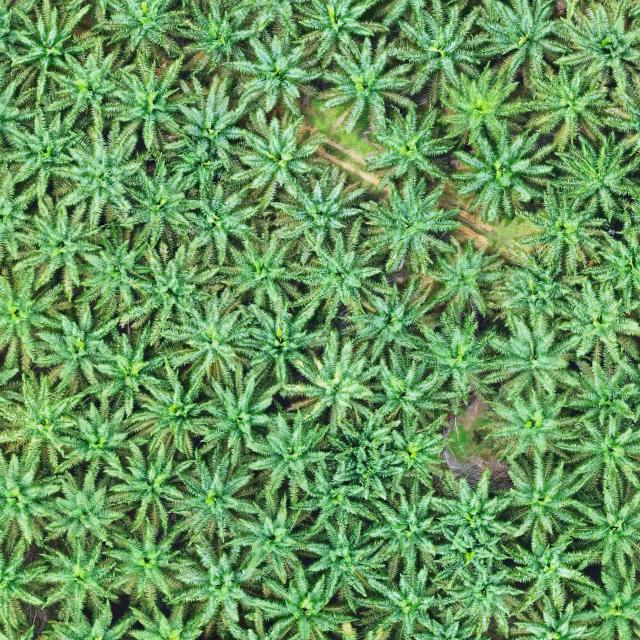Tree: (280, 209, 394, 332), (450, 118, 569, 227), (260, 162, 373, 268), (150, 288, 263, 392), (47, 116, 150, 230), (403, 299, 503, 416), (377, 0, 493, 100), (475, 301, 585, 404), (7, 191, 107, 303), (161, 530, 271, 631), (354, 480, 458, 586), (316, 29, 417, 137), (216, 484, 324, 584), (361, 175, 465, 278), (500, 518, 606, 619), (332, 268, 442, 365), (161, 447, 268, 545), (360, 339, 469, 435), (6, 0, 102, 109), (286, 336, 387, 439), (41, 32, 141, 130), (98, 513, 198, 610), (239, 563, 362, 640), (51, 393, 146, 492), (522, 60, 620, 155), (509, 185, 610, 277), (474, 383, 588, 464), (226, 105, 327, 196), (242, 405, 336, 502), (301, 515, 394, 613), (78, 326, 175, 418), (129, 235, 229, 324), (0, 101, 87, 203), (208, 227, 312, 312), (360, 98, 460, 186), (471, 0, 573, 86), (108, 55, 199, 151), (550, 0, 640, 97), (180, 174, 277, 264), (200, 363, 284, 466), (162, 72, 254, 166), (0, 259, 74, 375), (30, 300, 126, 389), (219, 32, 317, 119), (502, 446, 594, 538), (104, 442, 195, 535), (352, 561, 458, 640), (431, 467, 524, 557), (0, 369, 85, 467), (247, 298, 337, 390), (436, 56, 528, 146), (555, 129, 640, 225), (420, 230, 510, 320), (29, 536, 122, 622), (283, 458, 382, 538), (118, 150, 197, 250), (563, 482, 640, 584), (134, 365, 215, 460), (441, 552, 528, 640), (39, 463, 128, 549), (556, 274, 640, 362), (286, 0, 389, 71), (555, 408, 640, 494), (74, 226, 157, 314), (559, 346, 640, 434), (175, 0, 261, 80), (327, 414, 406, 501), (89, 0, 191, 63), (0, 443, 63, 544), (494, 256, 578, 326), (377, 414, 455, 489), (0, 532, 51, 636), (0, 59, 45, 169), (0, 163, 39, 273), (0, 0, 44, 69)
